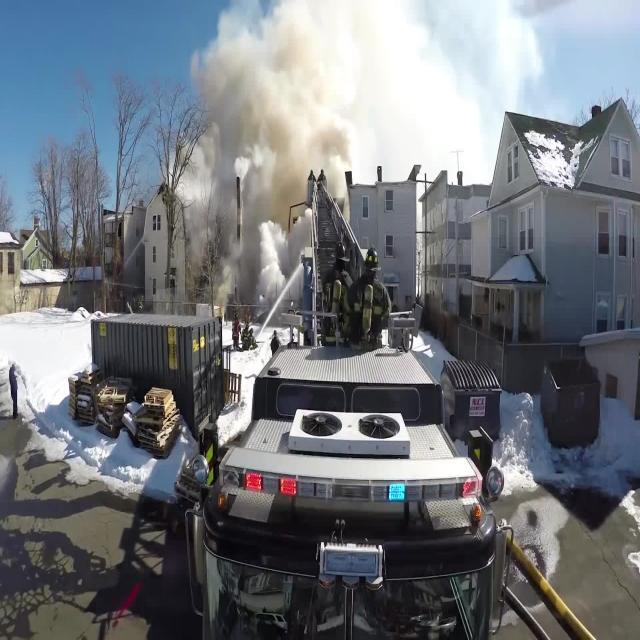Fire: (278, 473, 301, 497), (242, 469, 262, 489)
Smoke: (215, 13, 460, 167), (221, 41, 330, 323), (169, 48, 271, 296)
